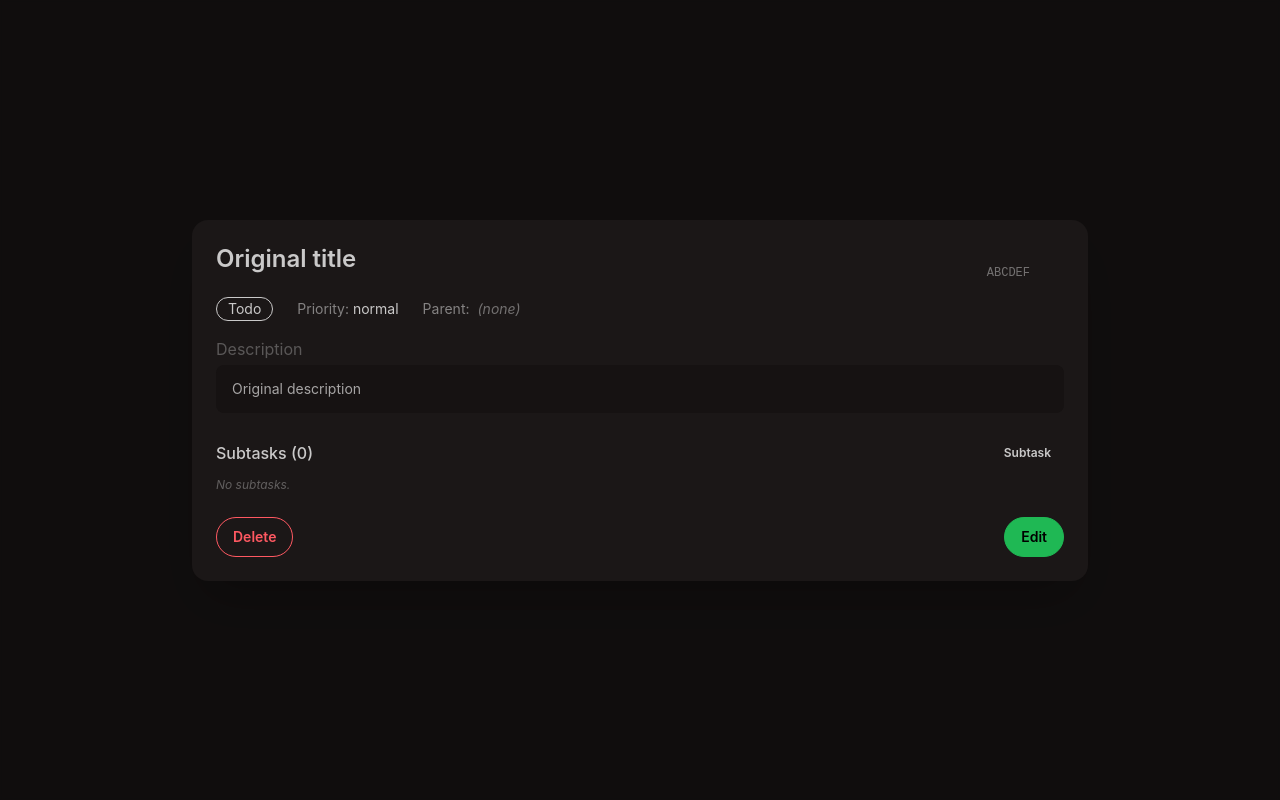
TaskEditModal mode toggle › switches to edit panel when the Edit button is clicked
Click the button "Edit": x=1034, y=536 [1004,516,1064,556]
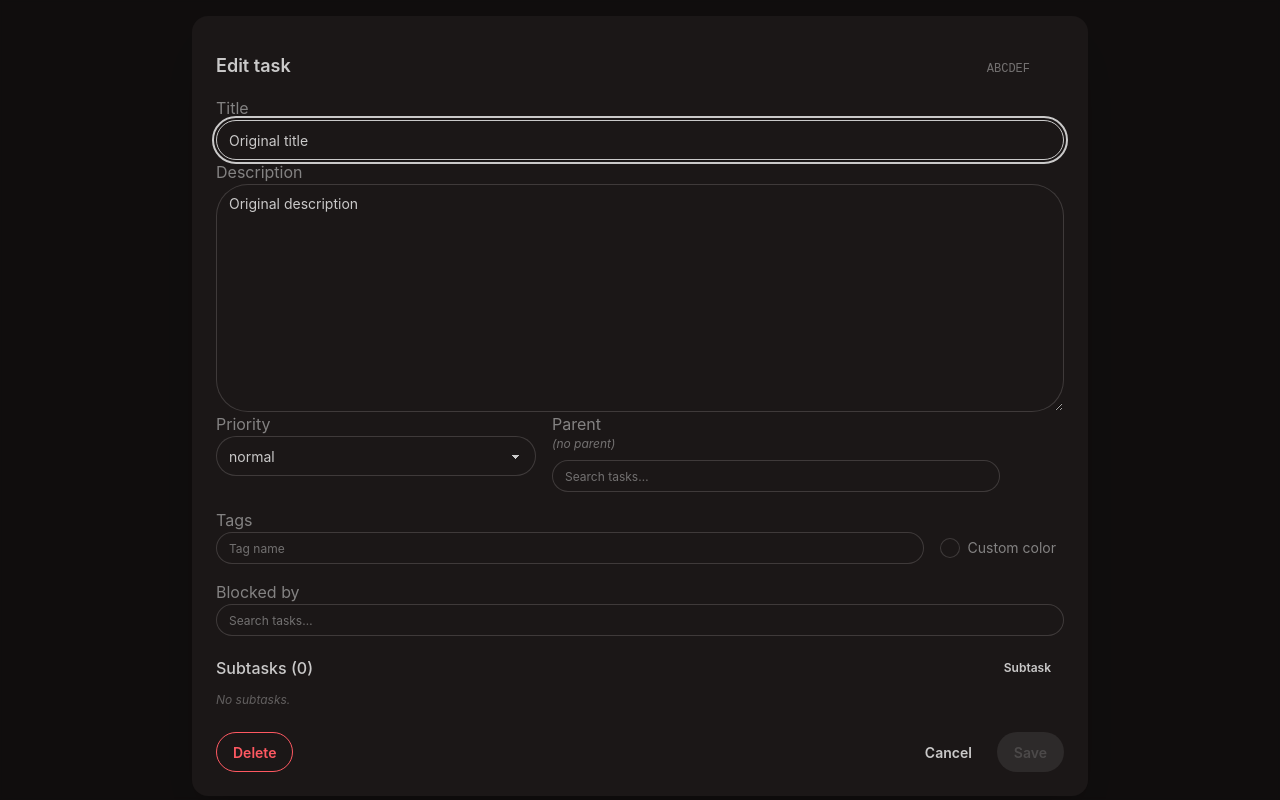
Expected: the field labelled "Title" holds "Original title", [216,120,1064,160]
Expected: the button "Save" is shown, [997,732,1064,772]
